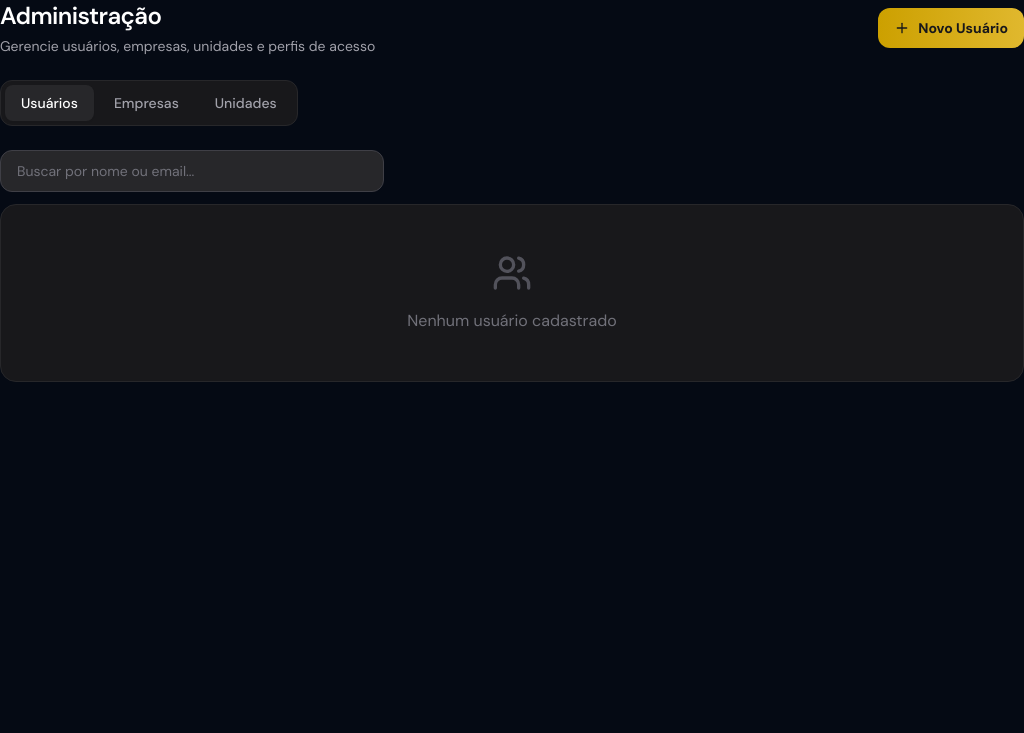
Test: AdminPage portal — config de empresa (F1 unificação) › form de dados vem preenchido e Salvar persiste via PATCH + toast
This screenshot has width=1024, height=733.
Click the button "Empresas".
click(146, 103)  # box [98,85,195,121]
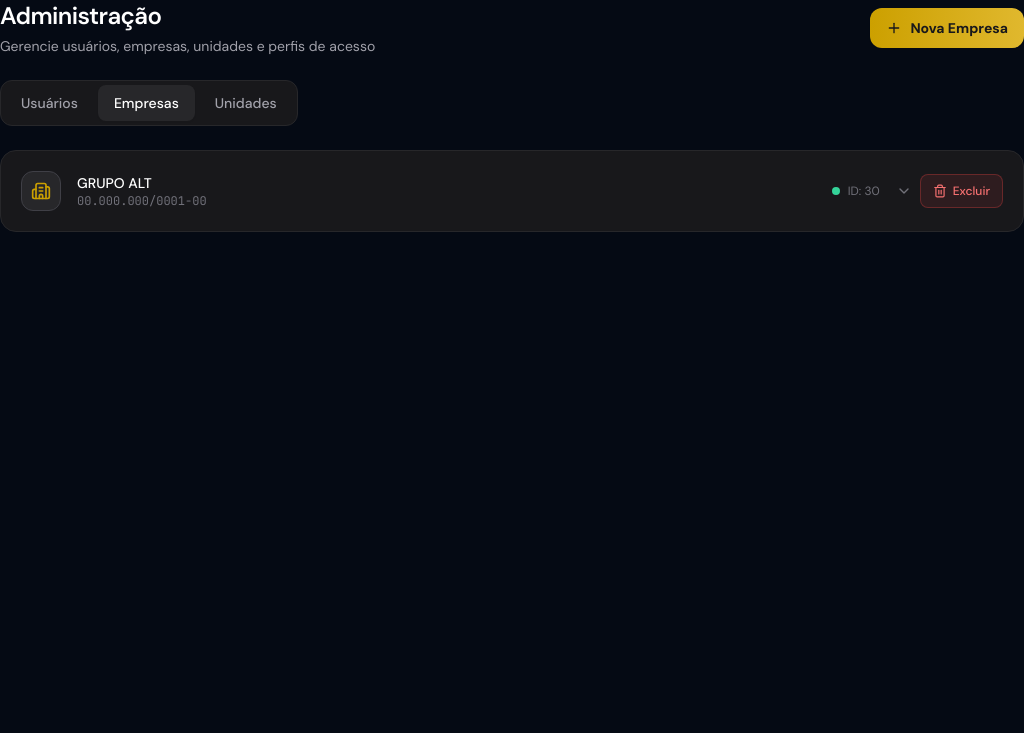
Click the button with aria-label "Expandir GRUPO ALT".
click(41, 191)  # box [21,171,912,211]
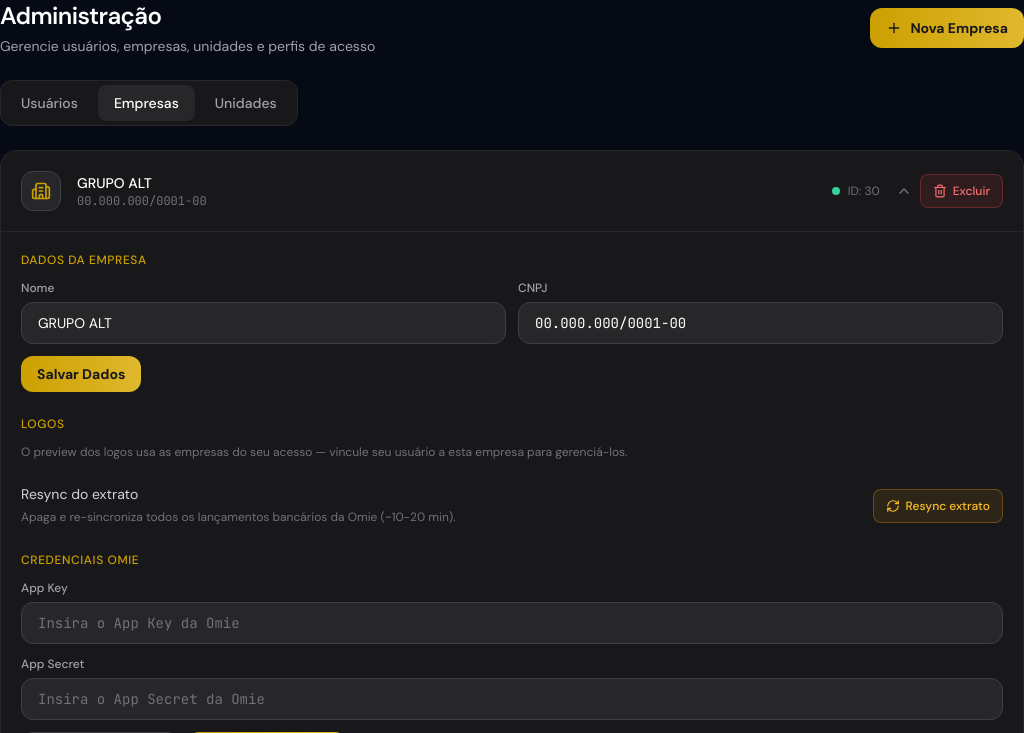
Result: the field named "Nome da empresa GRUPO ALT" holds "GRUPO ALT"
Result: the field named "CNPJ da empresa GRUPO ALT" holds "00.000.000/0001-00" at [518,302,1003,344]
Replace the text in the field named "Nome da empresa GRUPO ALT" with "ALT MAX" at (264, 323), box [21,302,506,344]
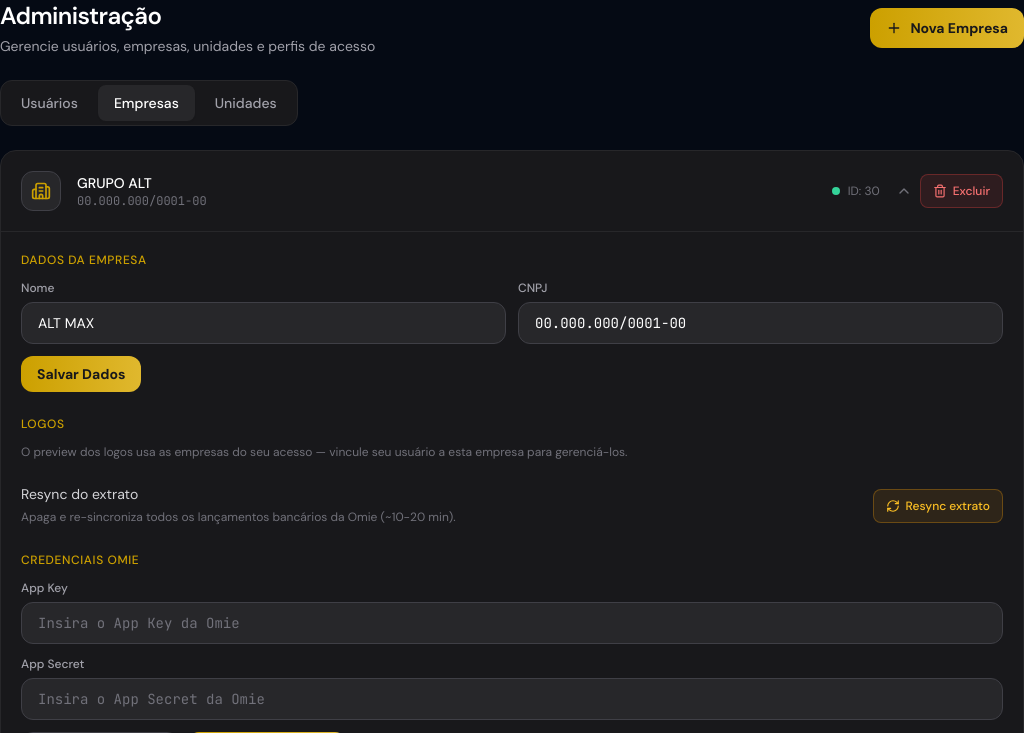
Click the button with aria-label "Salvar dados de GRUPO ALT".
click(81, 374)  # box [21,356,141,392]
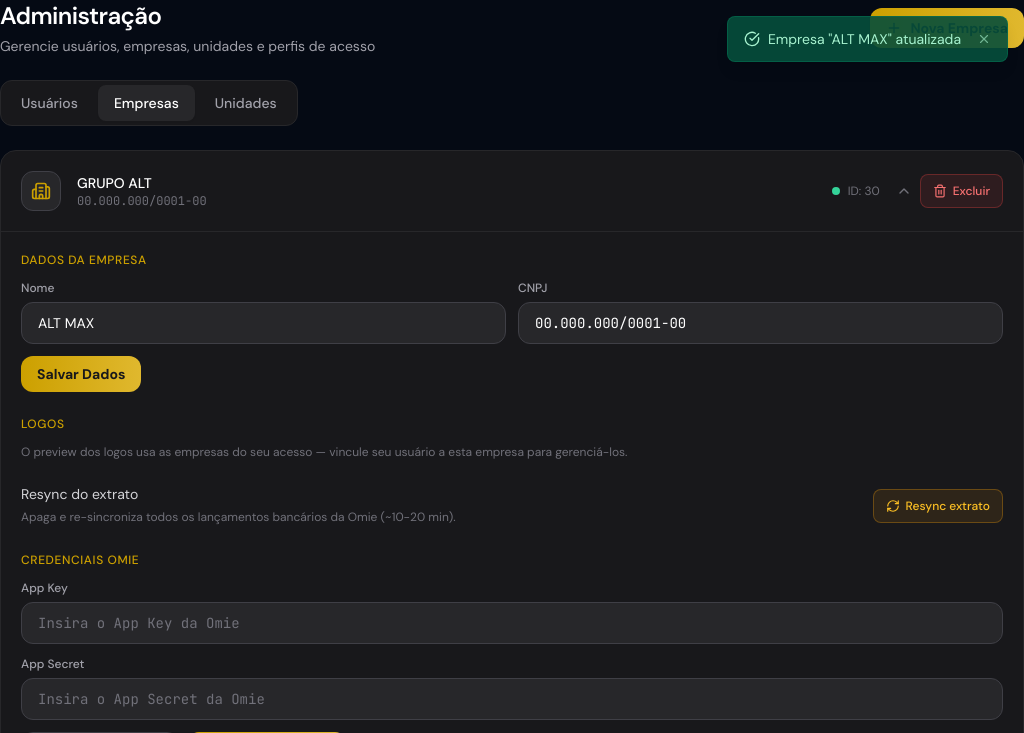
Result: the message reads "Empresa \"ALT MAX\" atualizada" at [768,30,961,48]
